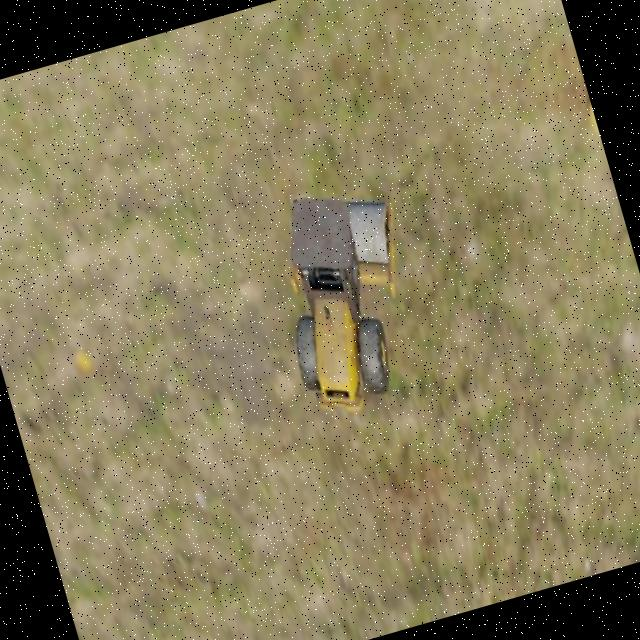Roller: (253, 173, 444, 425)
